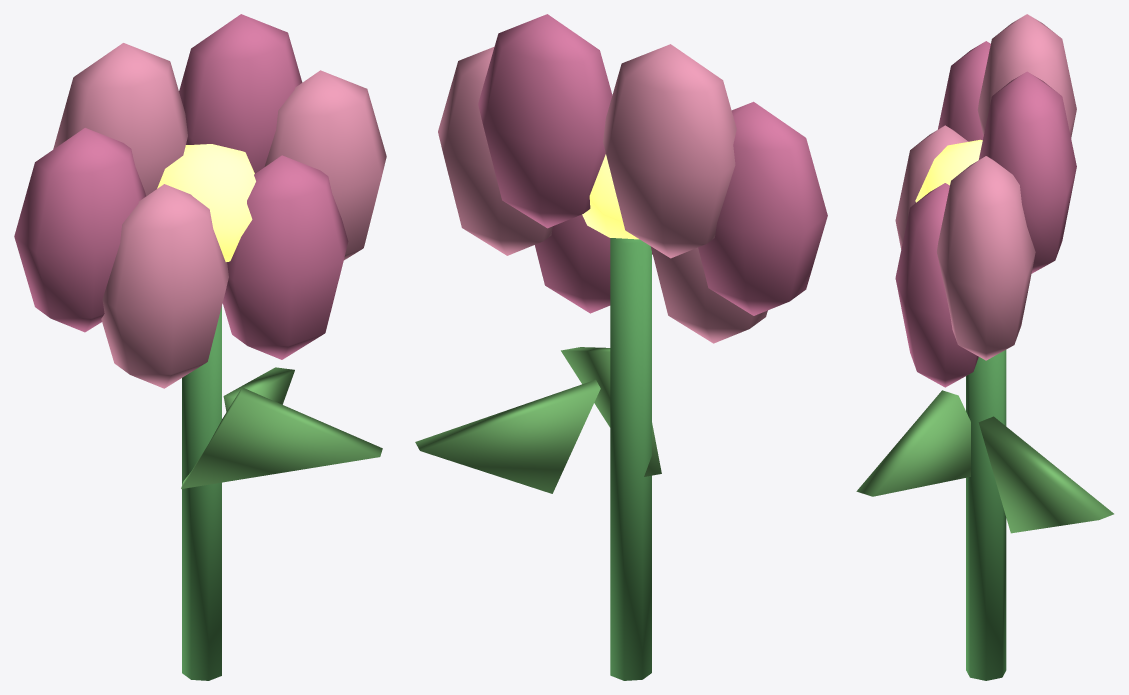
File: xy_item_bloom.glb
3 views of the same model, side by side, from view 1: azimuth 30°, elevation 25°; view 2: azimuth 150°, elevation 25°; view 3: azimuth 270°, elevation 25° (orthographic). The views are drawn at different scales.
Parts seen in each view (by area): view 1: Bloom; view 2: Bloom; view 3: Bloom.
Part boxes in pixels (x1,y1,x2,y2): Bloom: (14,14,386,680); Bloom: (415,14,827,680); Bloom: (856,14,1113,680).
Size of the model in its own units: 0.7064 by 1.18 by 0.437.
